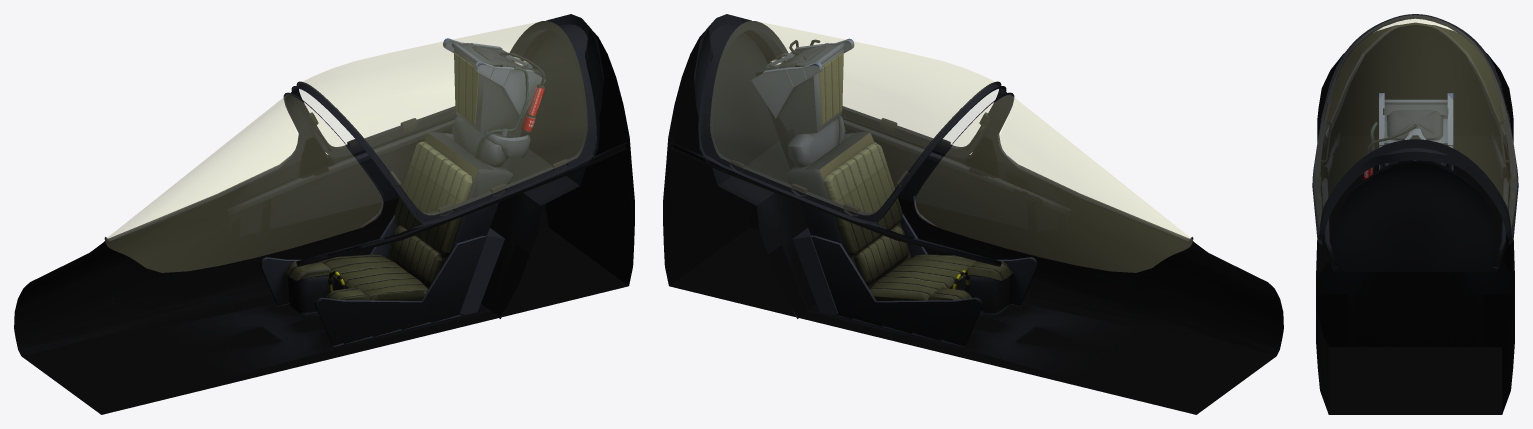
The model's file is interior-MONOPLACE.fbx.
3 views of the same model, side by side, from view 1: azimuth 30°, elevation 25°; view 2: azimuth 150°, elevation 25°; view 3: azimuth 270°, elevation 25° (orthographic). The views are drawn at different scales.
Visible parts, largest first — view 1: interieur-MONOPLACE, intverriere-MONOPLACE, seat.seat-MONOPLACE, intvitres, intcanopy-MONOPLACE, seat.frame-MONOPLACE; view 2: interieur-MONOPLACE, intverriere-MONOPLACE, seat.seat-MONOPLACE, intvitres, intcanopy-MONOPLACE, seat.frame-MONOPLACE; view 3: interieur-MONOPLACE, intverriere-MONOPLACE, intcanopy-MONOPLACE, seat.seat-MONOPLACE, intvitres, poignees-MONOPLACE.
Part boxes in pixels (bbox=[...]): interieur-MONOPLACE: bbox=[14, 14, 634, 414]; intverriere-MONOPLACE: bbox=[299, 21, 587, 214]; seat.seat-MONOPLACE: bbox=[260, 38, 545, 346]; intvitres: bbox=[105, 95, 382, 272]; intcanopy-MONOPLACE: bbox=[291, 15, 599, 224]; seat.frame-MONOPLACE: bbox=[459, 52, 541, 314]; interieur-MONOPLACE: bbox=[663, 14, 1283, 414]; intverriere-MONOPLACE: bbox=[710, 21, 998, 214]; seat.seat-MONOPLACE: bbox=[751, 38, 1037, 346]; intvitres: bbox=[915, 95, 1192, 272]; intcanopy-MONOPLACE: bbox=[698, 15, 1006, 224]; seat.frame-MONOPLACE: bbox=[755, 52, 838, 314]; interieur-MONOPLACE: bbox=[1312, 18, 1518, 414]; intverriere-MONOPLACE: bbox=[1314, 15, 1516, 226]; intcanopy-MONOPLACE: bbox=[1312, 14, 1518, 239]; seat.seat-MONOPLACE: bbox=[1363, 93, 1453, 180]; intvitres: bbox=[1326, 19, 1504, 132]; poignees-MONOPLACE: bbox=[1321, 121, 1509, 162].
Size of the model in its own units: 257 by 79.3 by 115.
